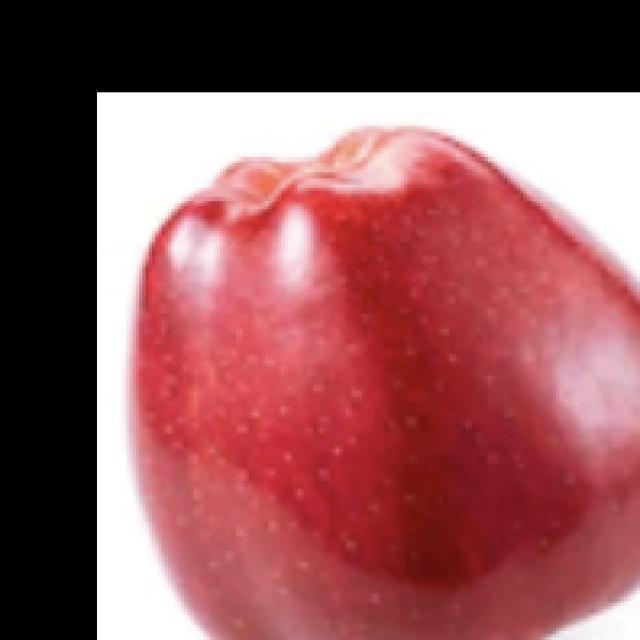Fresh Apple: (96, 138, 639, 640)
